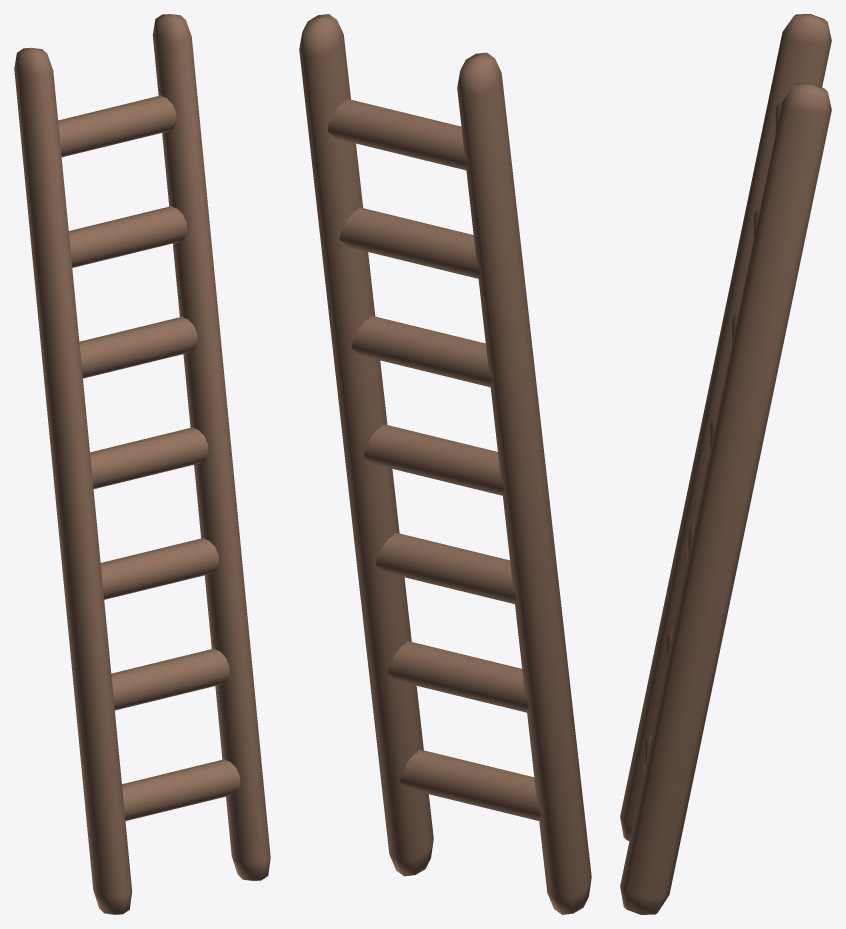
Rendered from Farmhouse_ROOM_woodenstairs_v01.glb.
The picture shows the model from 3 angles, left to right: view 1: azimuth 30°, elevation 25°; view 2: azimuth 150°, elevation 25°; view 3: azimuth 270°, elevation 25°; orthographic projection. The views are drawn at different scales.
Parts seen in each view (by area): view 1: Farmhouse_ROOM_woodenstairs_v01; view 2: Farmhouse_ROOM_woodenstairs_v01; view 3: Farmhouse_ROOM_woodenstairs_v01.
Part boxes in pixels (bbox=[...]): Farmhouse_ROOM_woodenstairs_v01: bbox=[14, 14, 270, 914]; Farmhouse_ROOM_woodenstairs_v01: bbox=[299, 14, 591, 914]; Farmhouse_ROOM_woodenstairs_v01: bbox=[620, 14, 831, 914].
Size of the model in its own units: 0.5337 by 2.44 by 0.5663.
